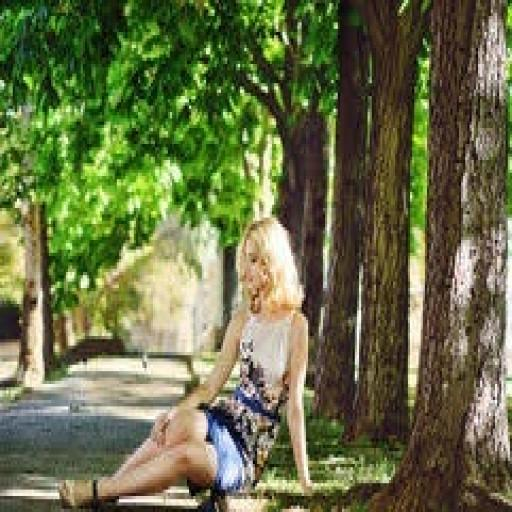sitting: (58, 211, 316, 509)
